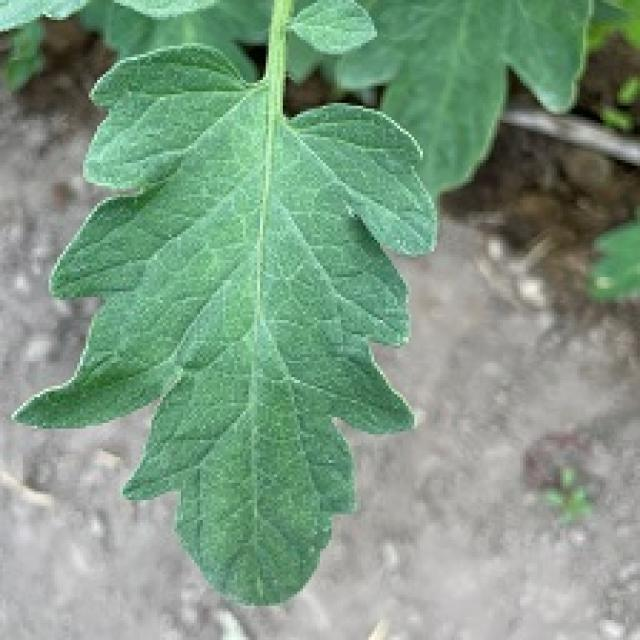Healthy: (0, 0, 503, 630)
